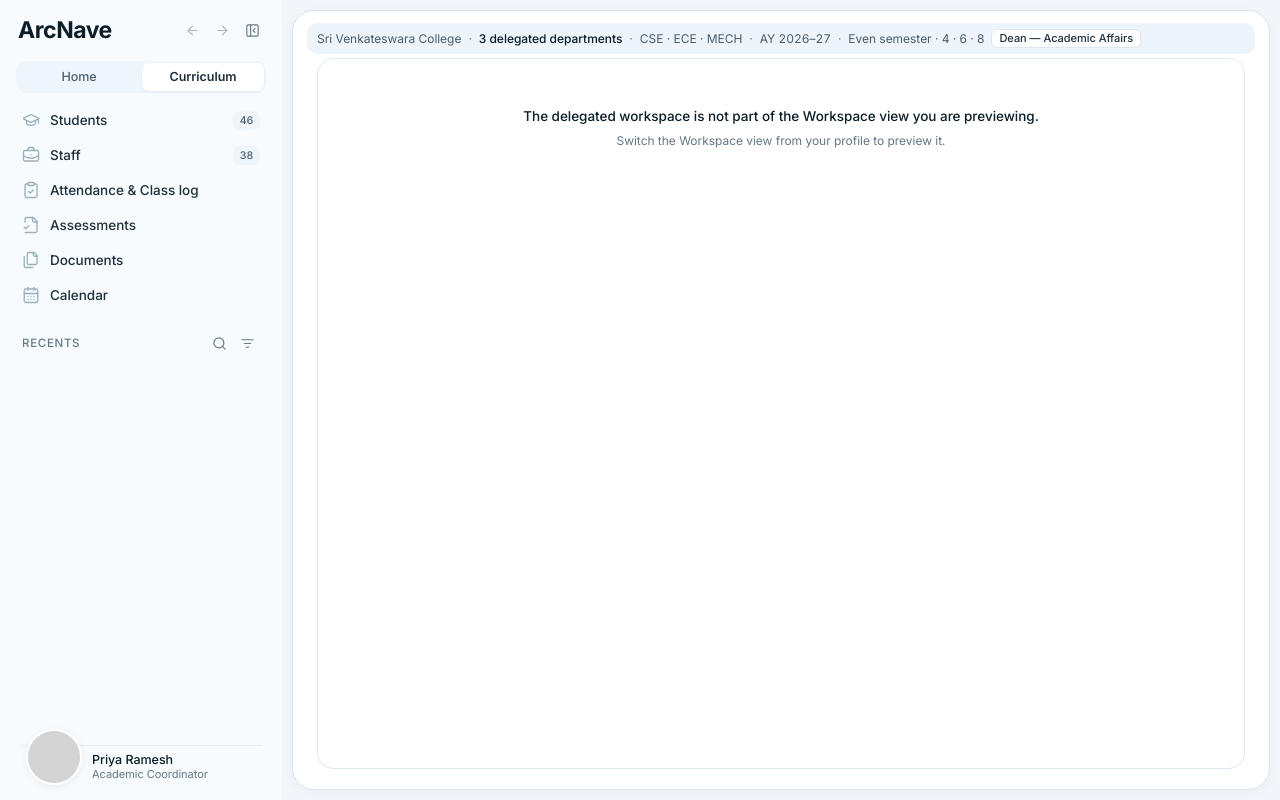
Test: routed approvals › offers a review that routes onward, never an approval
Step 1. Click the button with aria-label "open profile" → (141, 767), box left=20, top=746, right=262, bottom=788
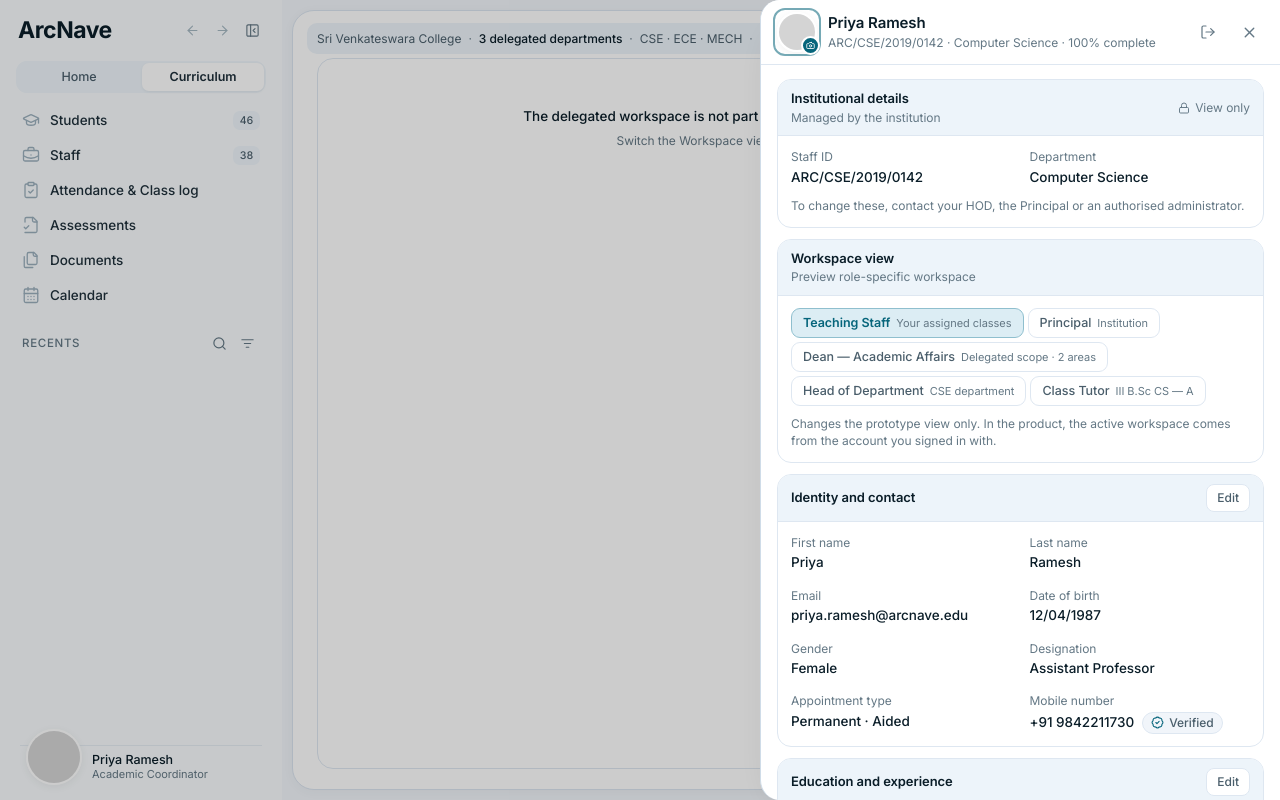
Step 2. Click the radio button labelled "Dean — Academic Affairs" → (950, 357), box left=791, top=342, right=1108, bottom=372
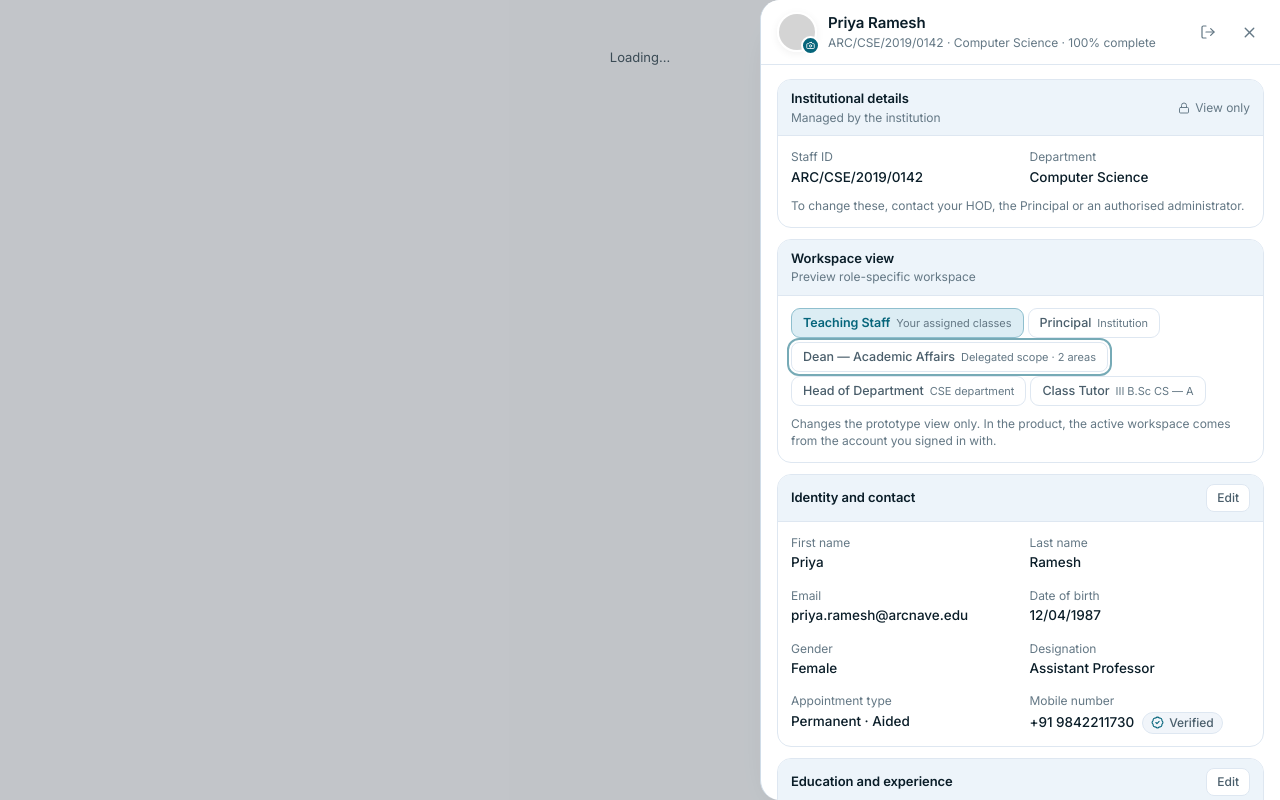
Step 3. Press Escape
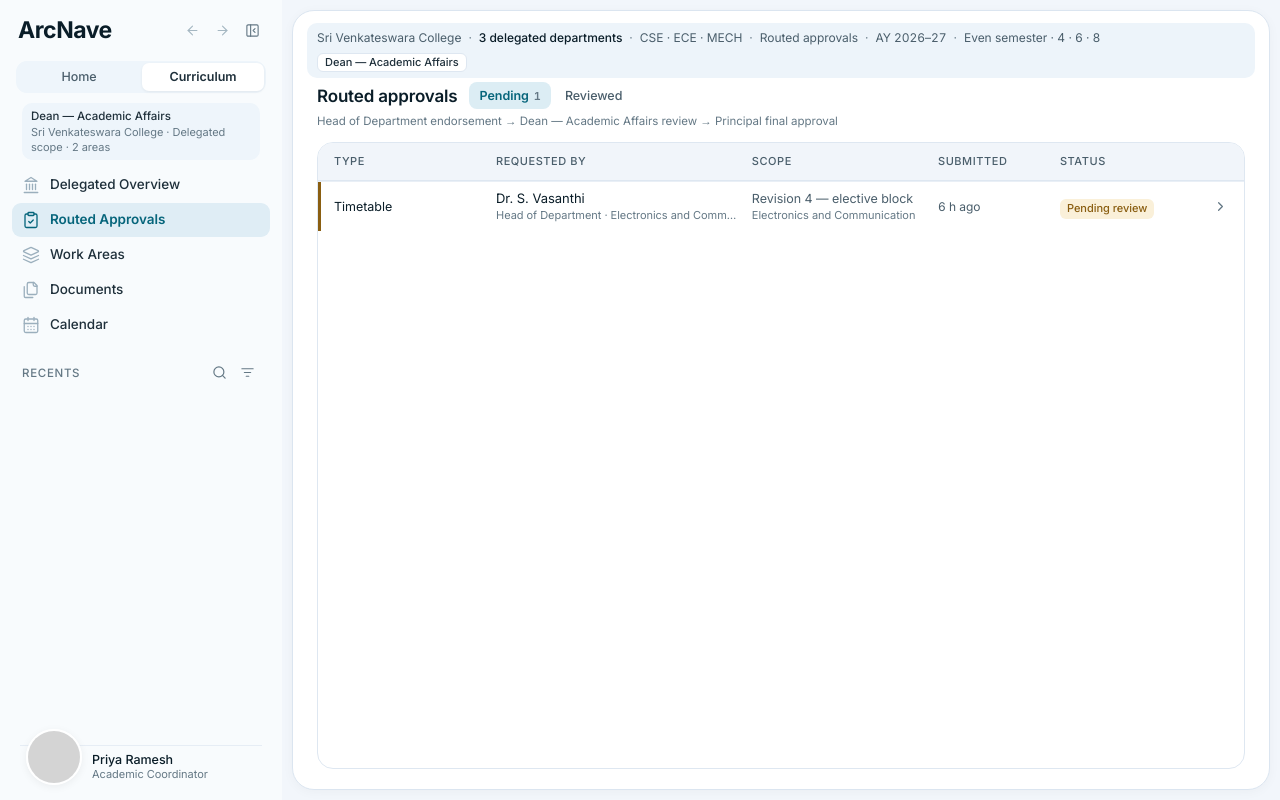
Expected: the text "Electronics and Communication" is shown, left=752, top=208, right=926, bottom=224
Step 4. Click the button with aria-label "routed for review" → (781, 206), box left=318, top=181, right=1244, bottom=231
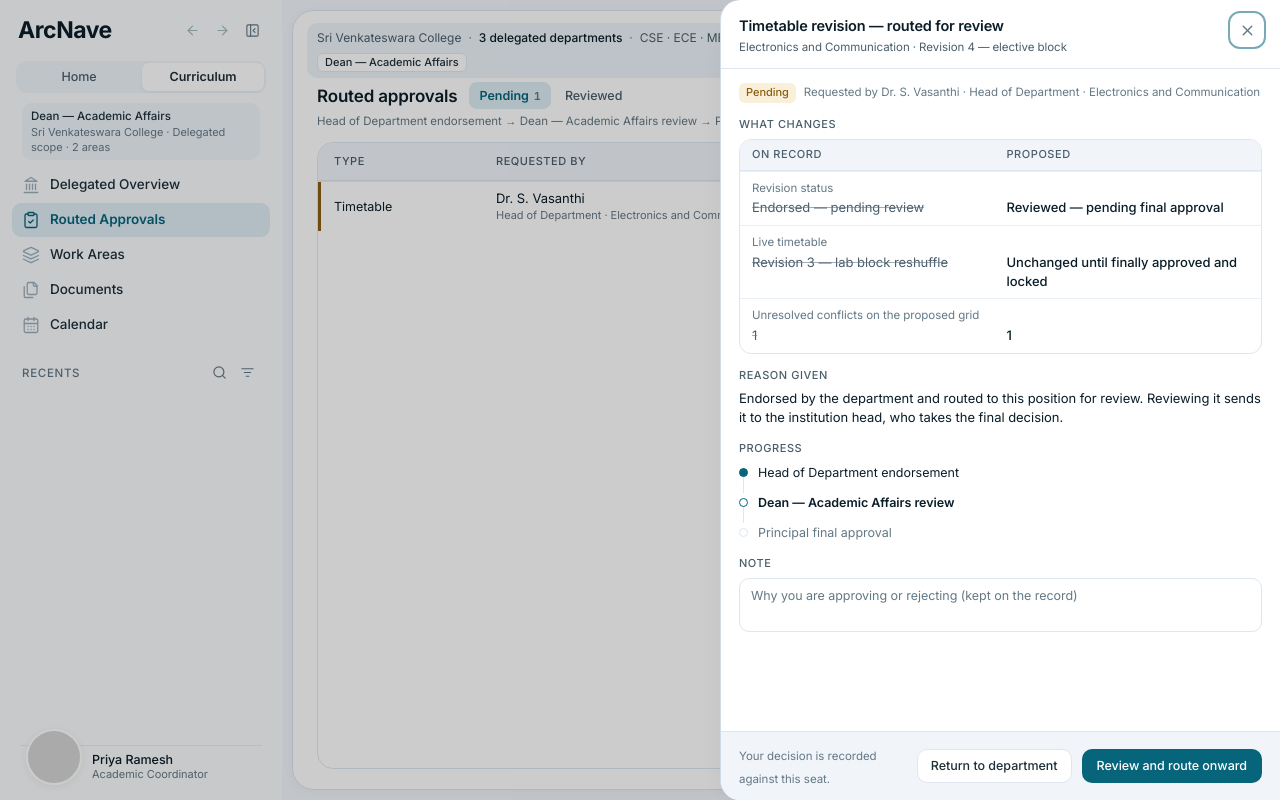
Expected: the button "Review and route onward" is shown, left=1082, top=749, right=1262, bottom=783
